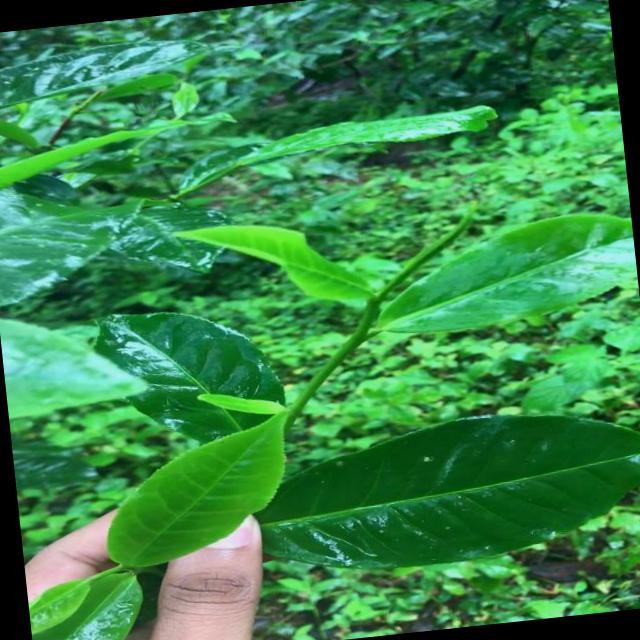Stem: (327, 334, 363, 368)
